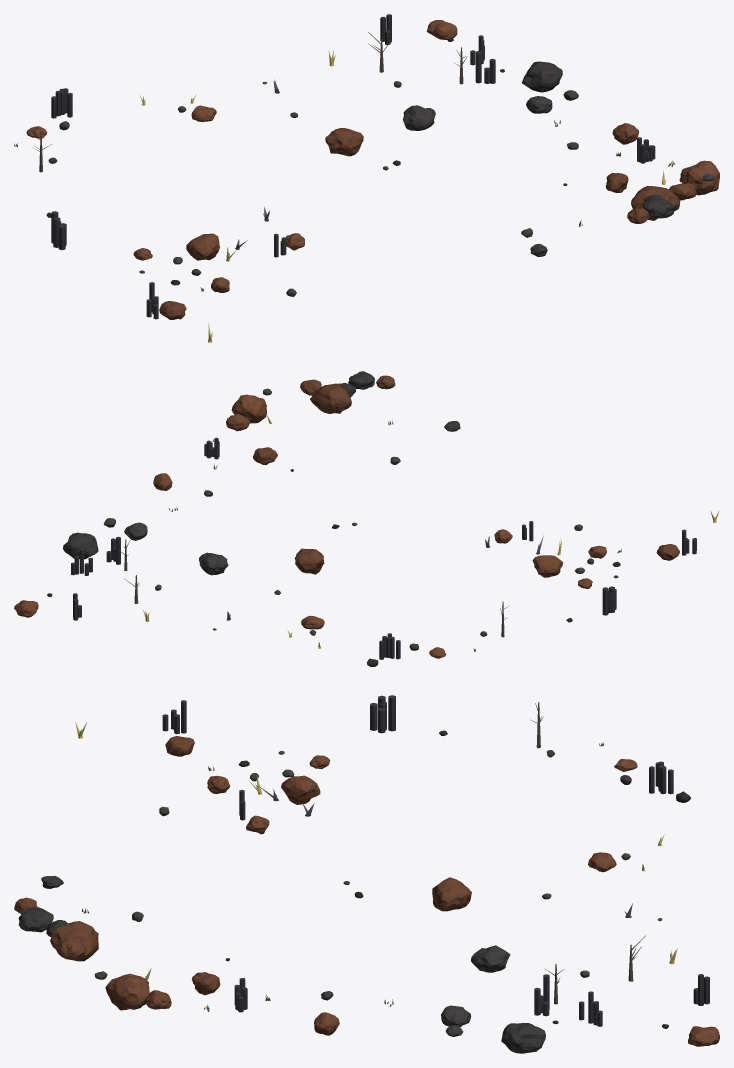
Rendered from ash_land_scatter_c20_27.glb.
The picture shows the model from 3 angles, top to bottom: view 1: azimuth 30°, elevation 25°; view 2: azimuth 150°, elevation 25°; view 3: azimuth 270°, elevation 25°; orthographic projection. The views are drawn at different scales.
Visible parts, largest first — view 1: ash_land_scatter_c20_27; view 2: ash_land_scatter_c20_27; view 3: ash_land_scatter_c20_27.
Boxes of the visible parts, <box> form: ash_land_scatter_c20_27: <box>14,14,719,342</box>; ash_land_scatter_c20_27: <box>14,371,719,666</box>; ash_land_scatter_c20_27: <box>14,695,719,1053</box>.
Size of the model in its own units: 95.19 by 12.39 by 92.06.
